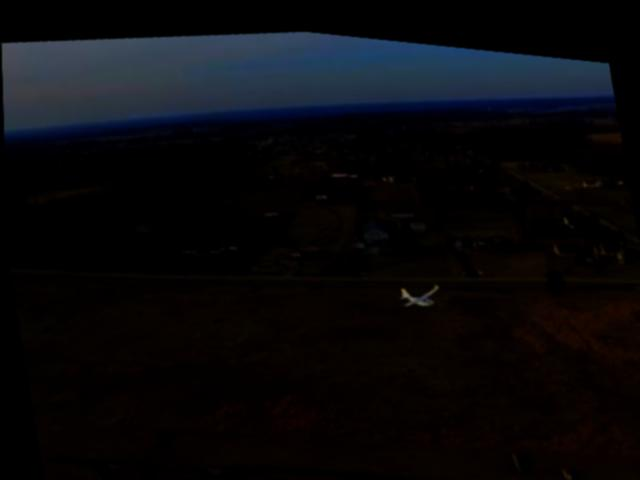uav: (384, 259, 451, 313)
